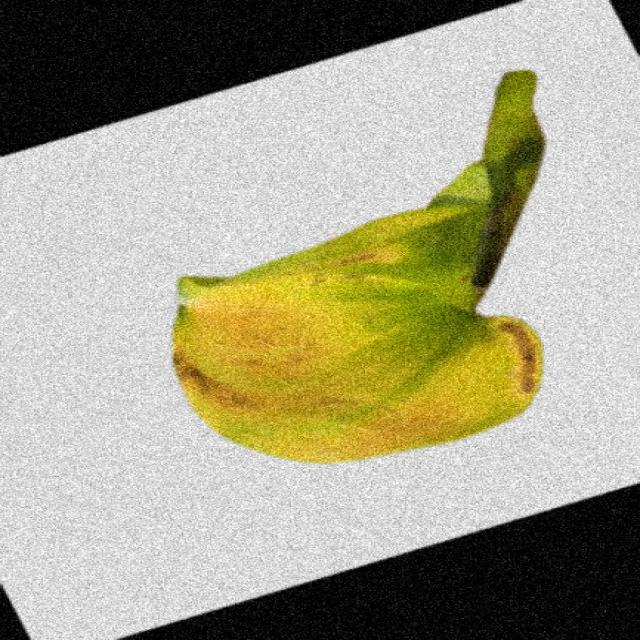daun berpenyakit kuning: (173, 71, 545, 462)
